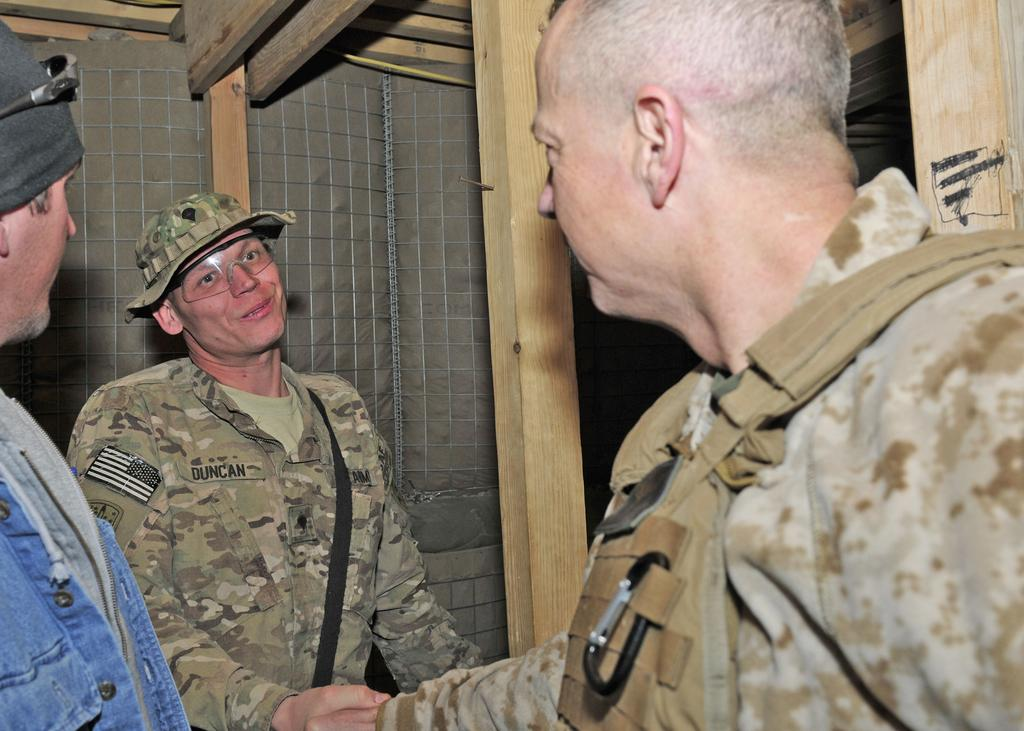Hat: (118, 190, 292, 322)
